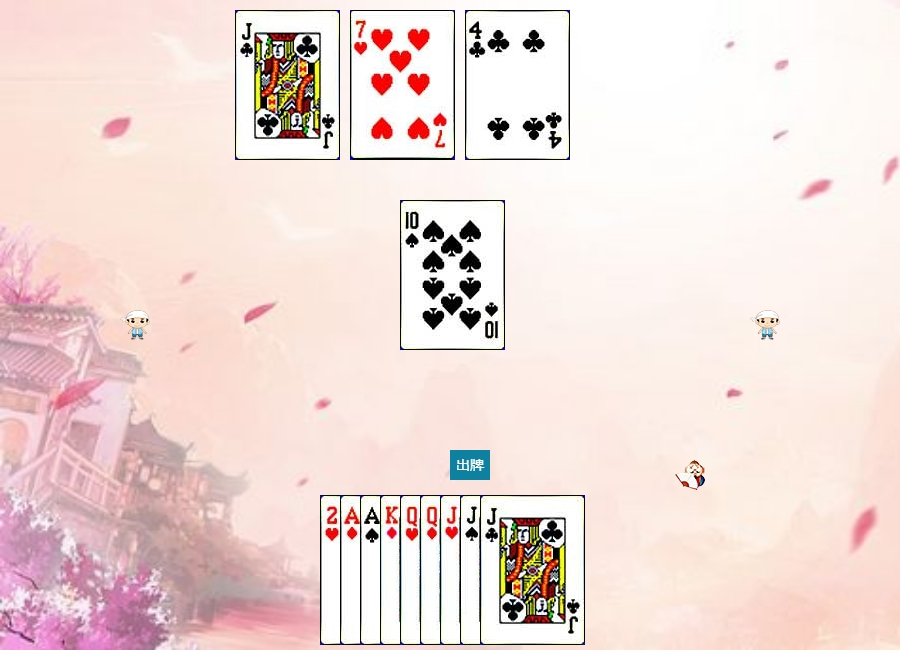10~4: (400, 200, 505, 350)
11~2: (235, 10, 340, 160), (480, 495, 585, 645)
11~3: (440, 495, 545, 645)
11~4: (460, 495, 565, 645)
12~1: (420, 495, 525, 645)
12~3: (400, 495, 505, 645)
13~1: (380, 495, 485, 645)
14~1: (340, 495, 445, 645)
14~4: (360, 495, 465, 645)
15~3: (320, 495, 425, 645)
4~2: (465, 10, 570, 160)
7~3: (350, 10, 455, 160)
